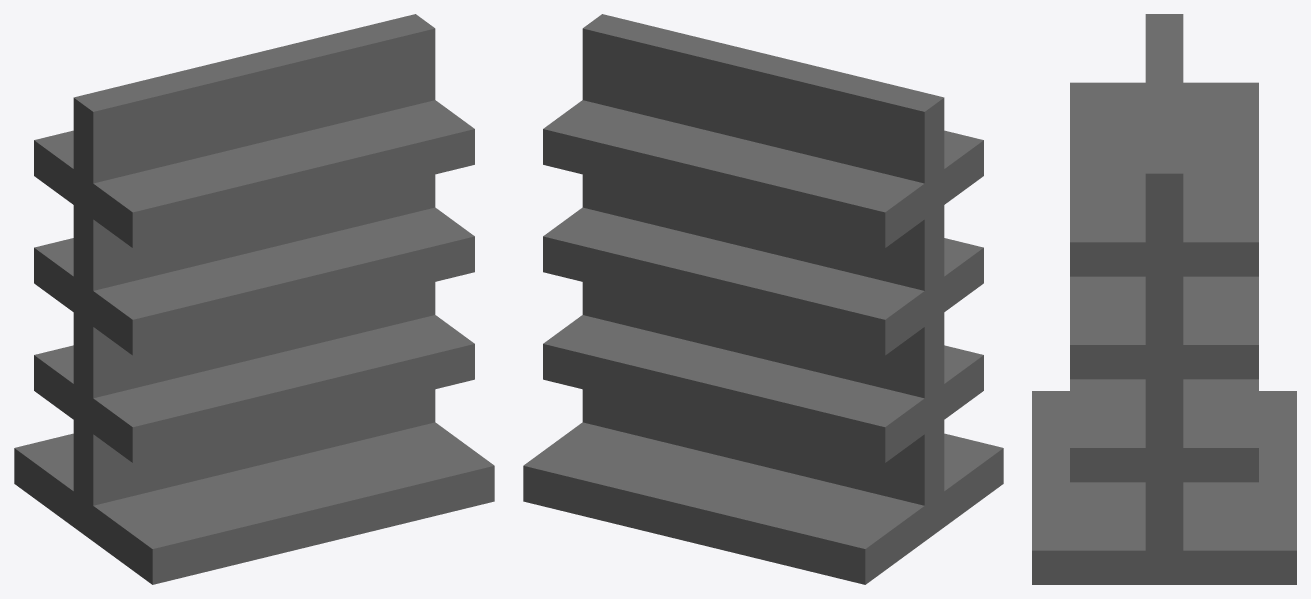
File: metal_shelf.glb
3 renders of one model, left to right at view 1: azimuth 30°, elevation 25°; view 2: azimuth 150°, elevation 25°; view 3: azimuth 270°, elevation 25°, orthographic. The views are drawn at different scales.
Parts seen in each view (by area): view 1: Untitled; view 2: Untitled; view 3: Untitled.
Boxes of the visible parts, bbox=[...] form: Untitled: bbox=[14, 14, 494, 584]; Untitled: bbox=[523, 14, 1003, 584]; Untitled: bbox=[1032, 14, 1296, 584].
Size of the model in its own units: 1 by 1.2 by 0.7.
Materials: 1 (1 with a texture image).
